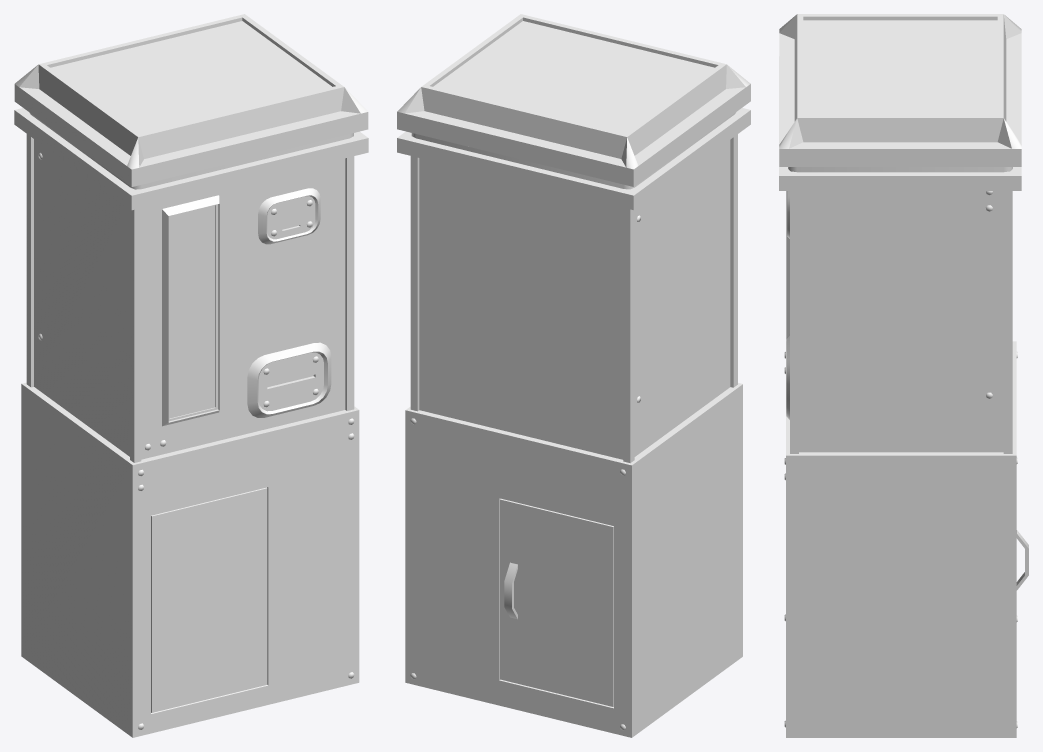
File: Ticket Consumertron.glb
The picture shows the model from 3 angles, left to right: view 1: azimuth 30°, elevation 25°; view 2: azimuth 150°, elevation 25°; view 3: azimuth 270°, elevation 25°; orthographic projection. The views are drawn at different scales.
Visible parts, largest first — view 1: Cube.037; view 2: Cube.037; view 3: Cube.037.
Boxes of the visible parts, x1,y1,x2,y2 form: Cube.037: [14, 14, 368, 737]; Cube.037: [397, 14, 750, 737]; Cube.037: [779, 14, 1028, 737].
Bounding box in the file's own units: 0.5569 × 1.33 × 0.491.
Materials: 5 (1 with a texture image).
